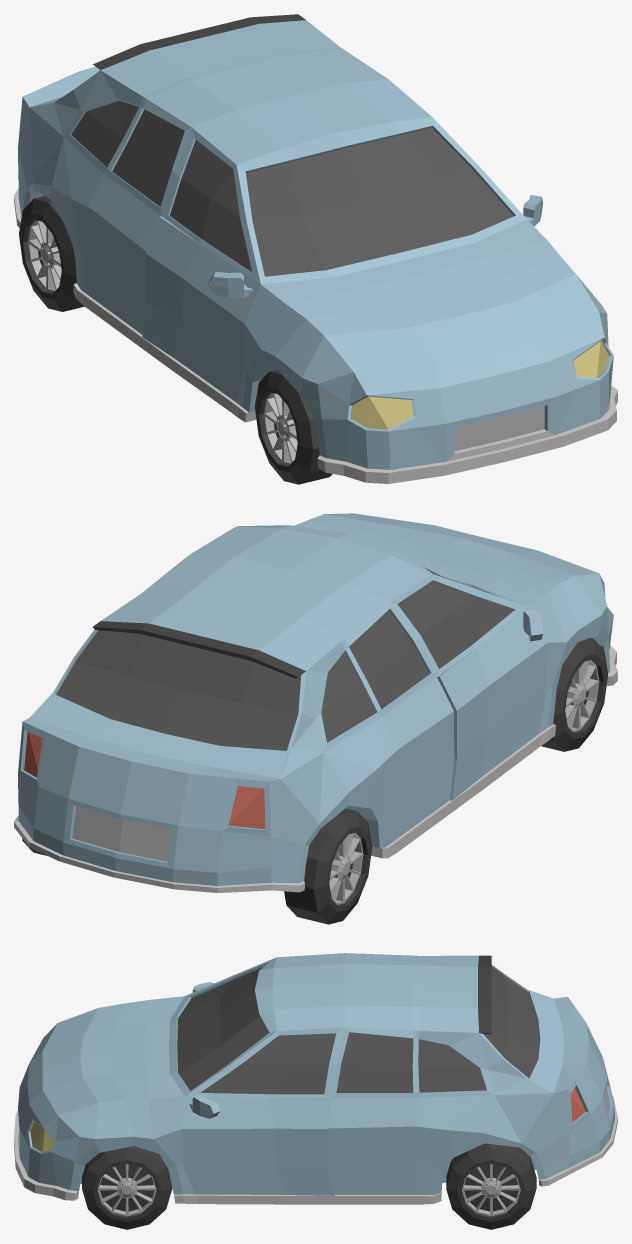
Rendered from NormalCar2.fbx.
3 renders of one model, top to bottom at view 1: azimuth 30°, elevation 25°; view 2: azimuth 150°, elevation 25°; view 3: azimuth 270°, elevation 25°, orthographic. The views are drawn at different scales.
Visible parts, largest first — view 1: Body, Wheels_Front, Wheels_Rear; view 2: Body, Wheels_Rear, Wheels_Front; view 3: Body, Wheels_Rear, Wheels_Front.
Part boxes in pixels (left/top/right/bottom): Body: left=14, top=14, right=617, bottom=483; Wheels_Front: left=254, top=369, right=332, bottom=484; Wheels_Rear: left=19, top=196, right=84, bottom=311; Body: left=14, top=513, right=617, bottom=892; Wheels_Rear: left=22, top=808, right=372, bottom=924; Wheels_Front: left=541, top=638, right=607, bottom=751; Body: left=14, top=953, right=617, bottom=1204; Wheels_Rear: left=446, top=1143, right=536, bottom=1229; Wheels_Front: left=82, top=1146, right=172, bottom=1229.
Bounding box in the file's own units: 1.64 × 1.15 × 3.31.
